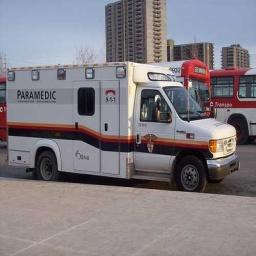Ambulance: (7, 62, 238, 190), (0, 75, 6, 140)
